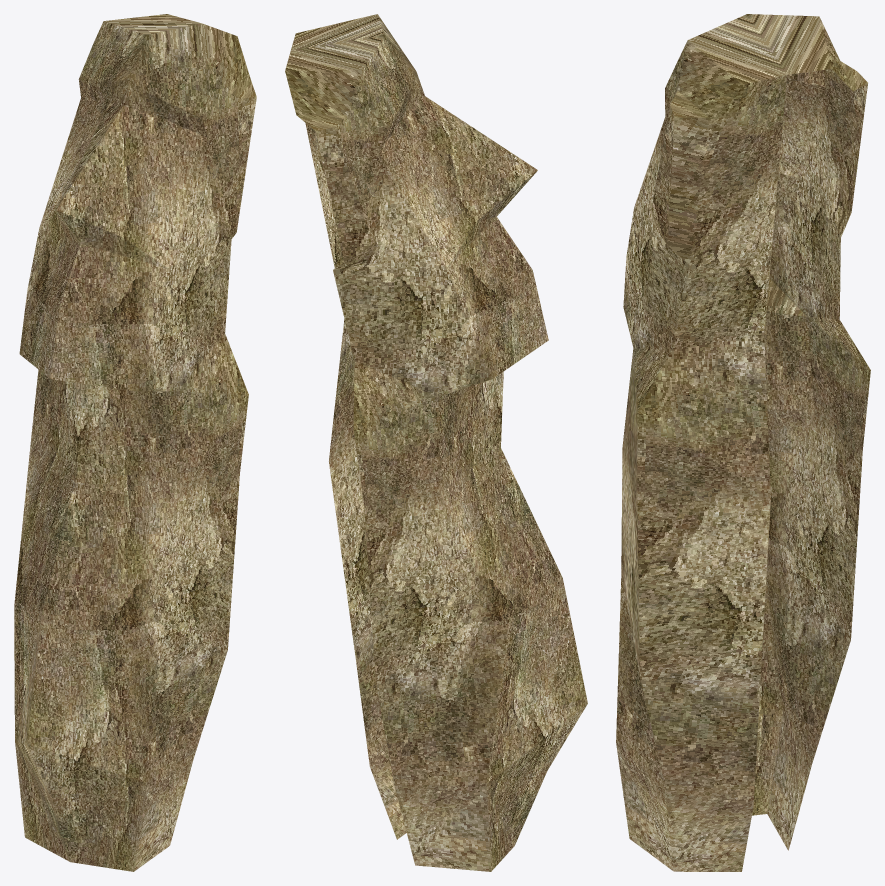
File: stage-east-p7-120.glb
3 views of the same model, side by side, from view 1: azimuth 30°, elevation 25°; view 2: azimuth 150°, elevation 25°; view 3: azimuth 270°, elevation 25° (orthographic). The views are drawn at different scales.
Bounding box in the file's own units: 9.72 × 29.42 × 7.87.
Materials: 1 (1 with a texture image).
